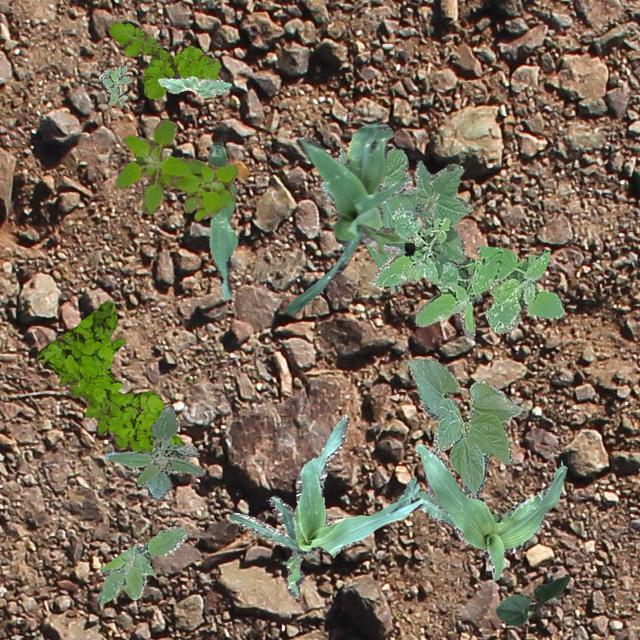crop: (228, 414, 422, 596), (286, 120, 412, 314), (319, 147, 472, 290), (410, 442, 566, 580), (404, 356, 522, 494), (206, 140, 236, 298), (496, 572, 568, 624), (157, 76, 230, 96)
weed: (370, 206, 562, 338), (34, 300, 180, 450), (114, 118, 238, 220), (104, 404, 204, 498), (106, 18, 220, 98), (96, 526, 186, 602), (98, 64, 130, 105)
